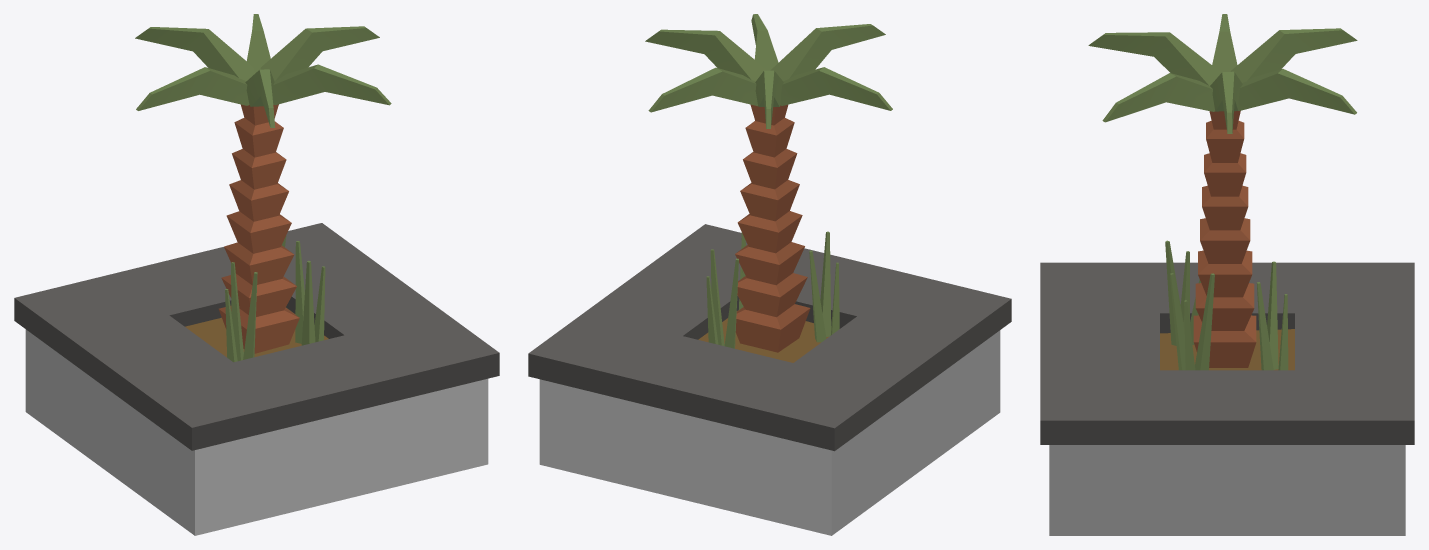
The model's file is ConcreteBench.glb.
3 renders of one model, left to right at view 1: azimuth 30°, elevation 25°; view 2: azimuth 150°, elevation 25°; view 3: azimuth 270°, elevation 25°, orthographic. The views are drawn at different scales.
Parts seen in each view (by area): view 1: SI_Prop_ConcreteBench_01; view 2: SI_Prop_ConcreteBench_01; view 3: SI_Prop_ConcreteBench_01.
Part boxes in pixels (x1,y1,x2,y2): SI_Prop_ConcreteBench_01: (14,14,499,535); SI_Prop_ConcreteBench_01: (528,14,1011,535); SI_Prop_ConcreteBench_01: (1040,14,1414,535).
Bounding box in the file's own units: 0.0369 × 0.0452 × 0.0369.
1 material, 1 textured.
